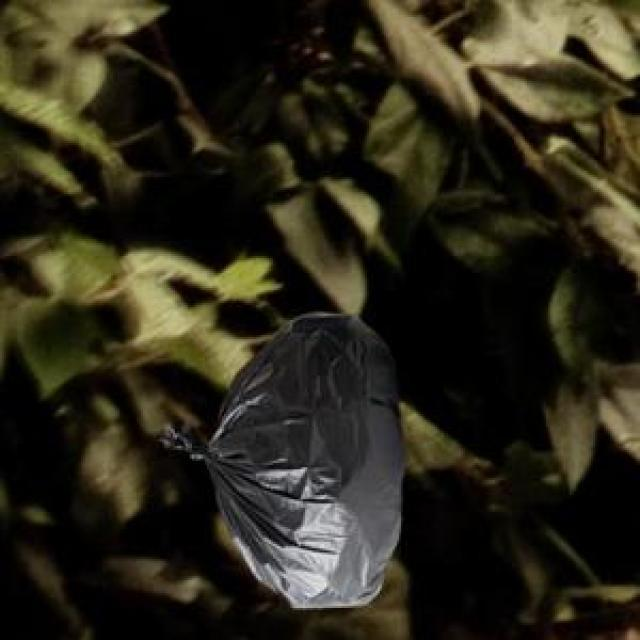miscellaneous trash: (158, 307, 401, 604)
